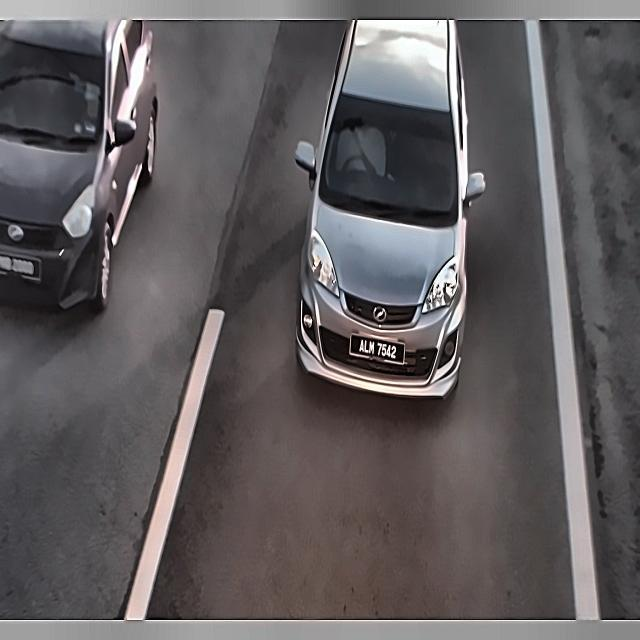car: (346, 329, 408, 368), (0, 250, 46, 286)
